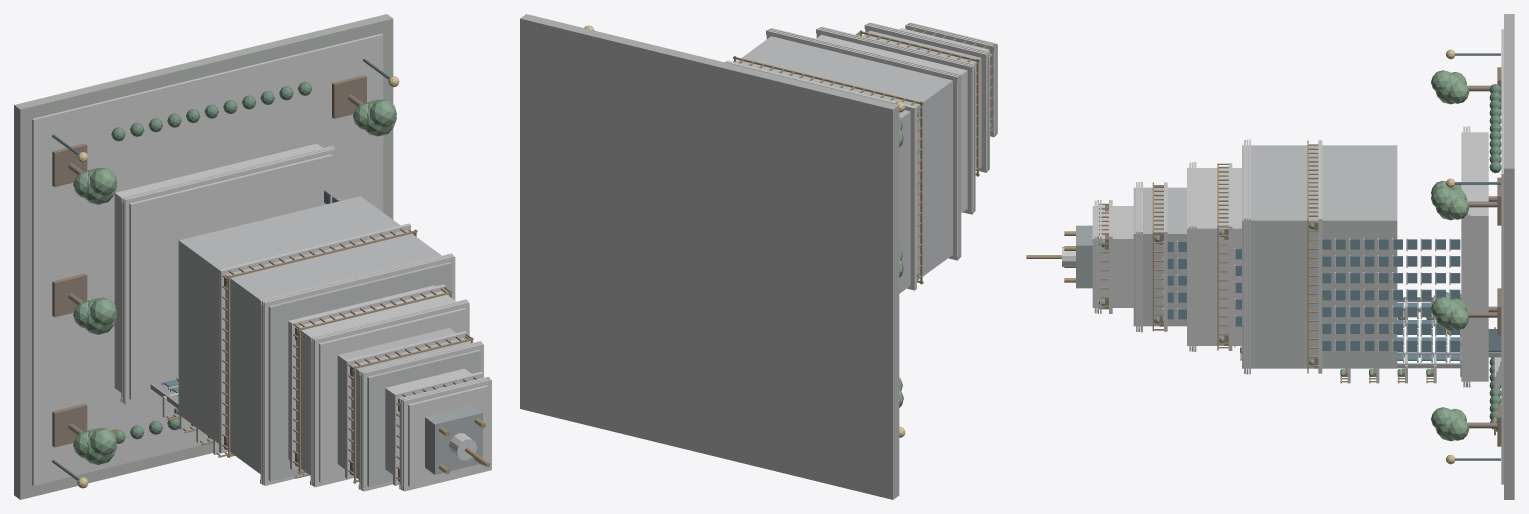
Rendered from pale-grey-tower.glb.
3 renders of one model, left to right at view 1: azimuth 30°, elevation 25°; view 2: azimuth 150°, elevation 25°; view 3: azimuth 270°, elevation 25°, orthographic. The views are drawn at different scales.
Parts seen in each view (by area): view 1: 0001_curb, 0015_tower_mass_1, 0002_tower_mass_0, 0000_square_podium, 0028_tower_mass_2, 0041_tower_mass_3, 0054_tower_mass_4, 1345_rooftop_crown, 0869_terrace_slab, 0960_terrace_slab, 1039_terrace_slab, 0004_cornice_back_0_0 (+20 smaller); view 2: 0000_square_podium, 0015_tower_mass_1, 0869_terrace_slab, 0028_tower_mass_2, 0041_tower_mass_3, 0025_cornice_back_1_2, 0026_cornice_sideL_1_2, 0038_cornice_back_2_2, 0039_cornice_sideL_2_2, 0051_cornice_back_3_2, 0052_cornice_sideL_3_2, 0018_cornice_sideL_1_0 (+1 smaller); view 3: 0015_tower_mass_1, 0028_tower_mass_2, 0002_tower_mass_0, 0000_square_podium, 0041_tower_mass_3, 0054_tower_mass_4, 0001_curb, 0869_terrace_slab, 1345_rooftop_crown, 0960_terrace_slab, 1039_terrace_slab.
Part boxes in pixels (x1=…): 0001_curb: x1=32, y1=33, x2=383, y2=485; 0015_tower_mass_1: x1=178, y1=196, x2=451, y2=481; 0002_tower_mass_0: x1=114, y1=143, x2=332, y2=399; 0000_square_podium: x1=14, y1=14, x2=393, y2=499; 0028_tower_mass_2: x1=288, y1=285, x2=466, y2=482; 0041_tower_mass_3: x1=337, y1=328, x2=480, y2=486; 0054_tower_mass_4: x1=385, y1=368, x2=488, y2=486; 1345_rooftop_crown: x1=425, y1=405, x2=482, y2=474; 0869_terrace_slab: x1=219, y1=223, x2=410, y2=453; 0960_terrace_slab: x1=290, y1=284, x2=445, y2=469; 1039_terrace_slab: x1=345, y1=331, x2=466, y2=478; 0004_cornice_back_0_0: x1=124, y1=148, x2=335, y2=203; 0000_square_podium: x1=520, y1=14, x2=899, y2=499; 0015_tower_mass_1: x1=735, y1=36, x2=952, y2=293; 0869_terrace_slab: x1=725, y1=60, x2=916, y2=290; 0028_tower_mass_2: x1=816, y1=35, x2=967, y2=212; 0041_tower_mass_3: x1=862, y1=30, x2=981, y2=170; 0025_cornice_back_1_2: x1=766, y1=30, x2=958, y2=81; 0026_cornice_sideL_1_2: x1=953, y1=77, x2=958, y2=259; 0038_cornice_back_2_2: x1=816, y1=28, x2=973, y2=71; 0039_cornice_sideL_2_2: x1=967, y1=67, x2=972, y2=213; 0051_cornice_back_3_2: x1=864, y1=24, x2=987, y2=58; 0052_cornice_sideL_3_2: x1=981, y1=54, x2=986, y2=172; 0018_cornice_sideL_1_0: x1=959, y1=75, x2=961, y2=257; 0015_tower_mass_1: x1=1242, y1=145, x2=1397, y2=368; 0028_tower_mass_2: x1=1187, y1=168, x2=1241, y2=345; 0002_tower_mass_0: x1=1461, y1=132, x2=1488, y2=381; 0000_square_podium: x1=1504, y1=14, x2=1514, y2=499; 0041_tower_mass_3: x1=1133, y1=187, x2=1186, y2=326; 0054_tower_mass_4: x1=1092, y1=206, x2=1133, y2=307; 0001_curb: x1=1501, y1=29, x2=1503, y2=484; 0869_terrace_slab: x1=1318, y1=140, x2=1322, y2=373; 1345_rooftop_crown: x1=1076, y1=225, x2=1092, y2=288; 0960_terrace_slab: x1=1228, y1=163, x2=1232, y2=350; 1039_terrace_slab: x1=1164, y1=182, x2=1167, y2=331.
Bounding box in the file's own units: 24 × 24 × 32.05.
